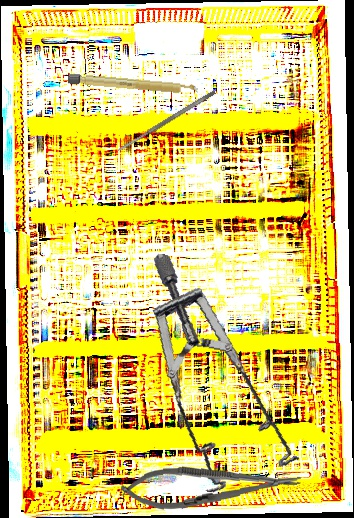Needle Holder: (119, 460, 303, 513)
Scalpel Handle: (67, 73, 199, 96)
Spatula Surgical: (116, 89, 217, 153)
Speculum: (116, 252, 330, 507)
